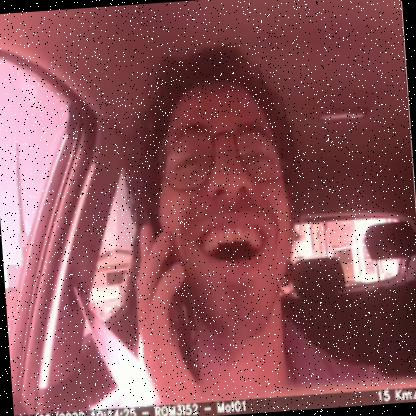phone: (133, 206, 209, 391)
